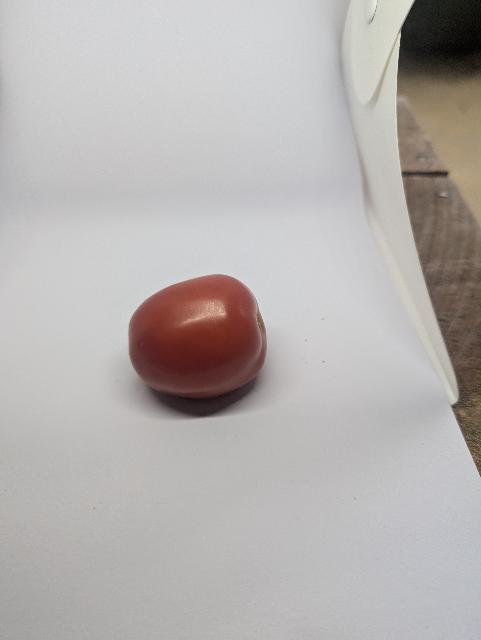red: (126, 269, 280, 418)
